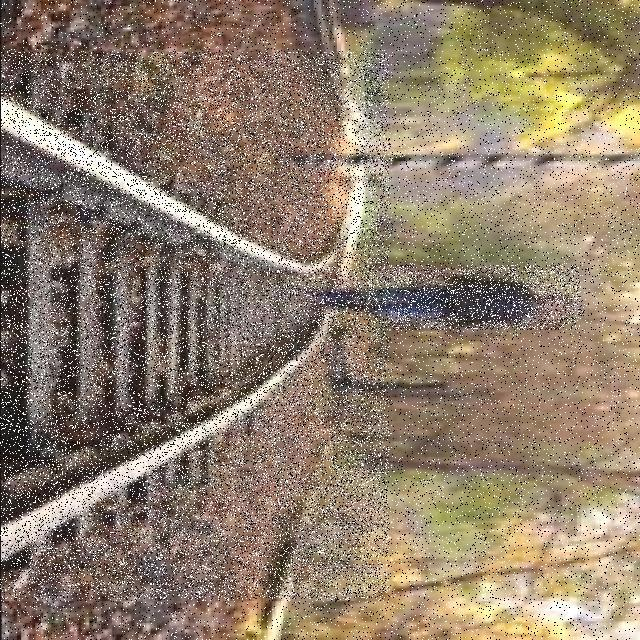danger: (310, 265, 581, 330)
rail: (1, 53, 389, 599)
